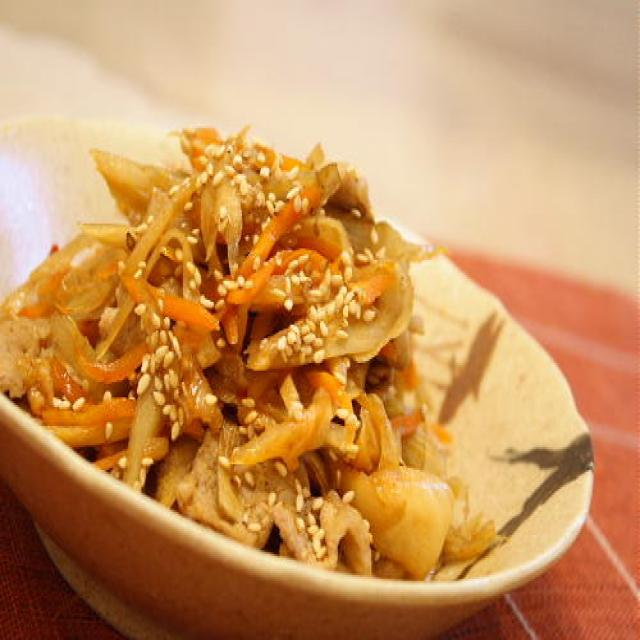蔬菜料理: (4, 128, 577, 611)
